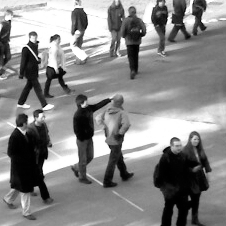person: (70, 95, 115, 184), (3, 114, 37, 220), (98, 95, 135, 188), (18, 30, 55, 110), (29, 108, 56, 206), (184, 130, 208, 226), (161, 137, 185, 226), (45, 32, 75, 96), (120, 6, 146, 79), (68, 1, 93, 64), (107, 1, 126, 56), (167, 1, 193, 41), (151, 1, 169, 58), (1, 10, 14, 85), (192, 1, 209, 37)
